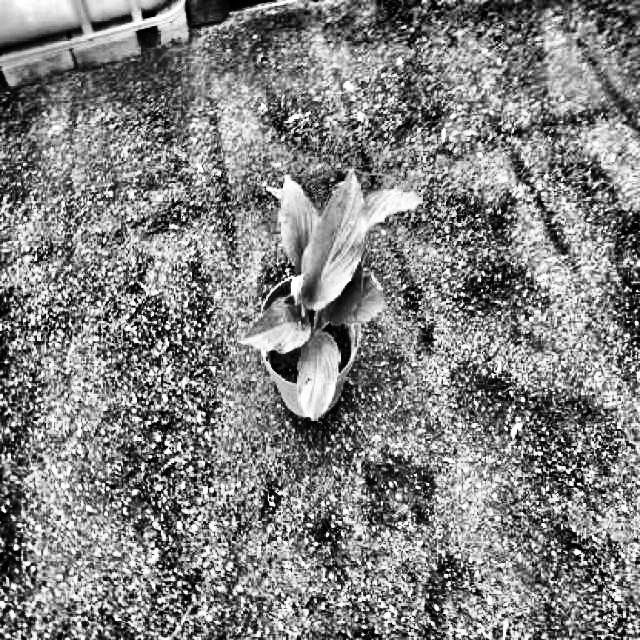plants: (233, 174, 419, 414)
